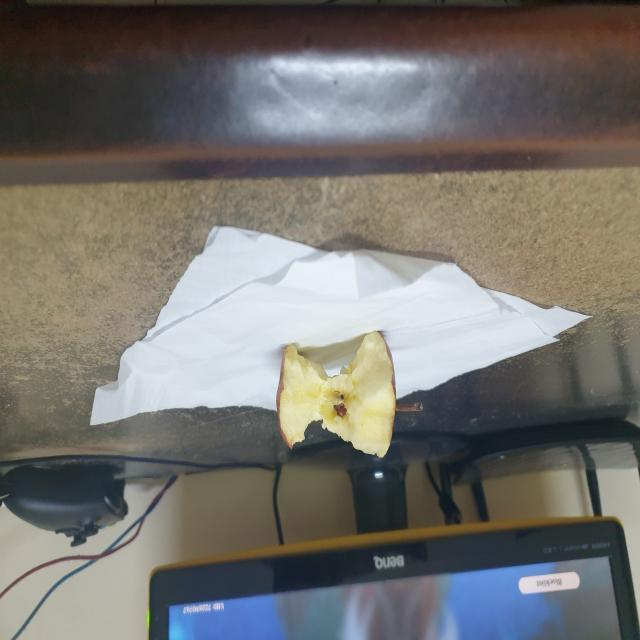apple: (269, 326, 426, 461)
